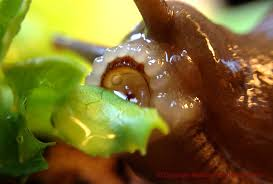slug: (54, 1, 273, 183)
